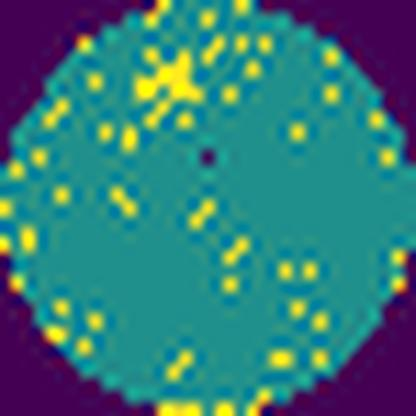Edge-Loc: (132, 46, 206, 123)
